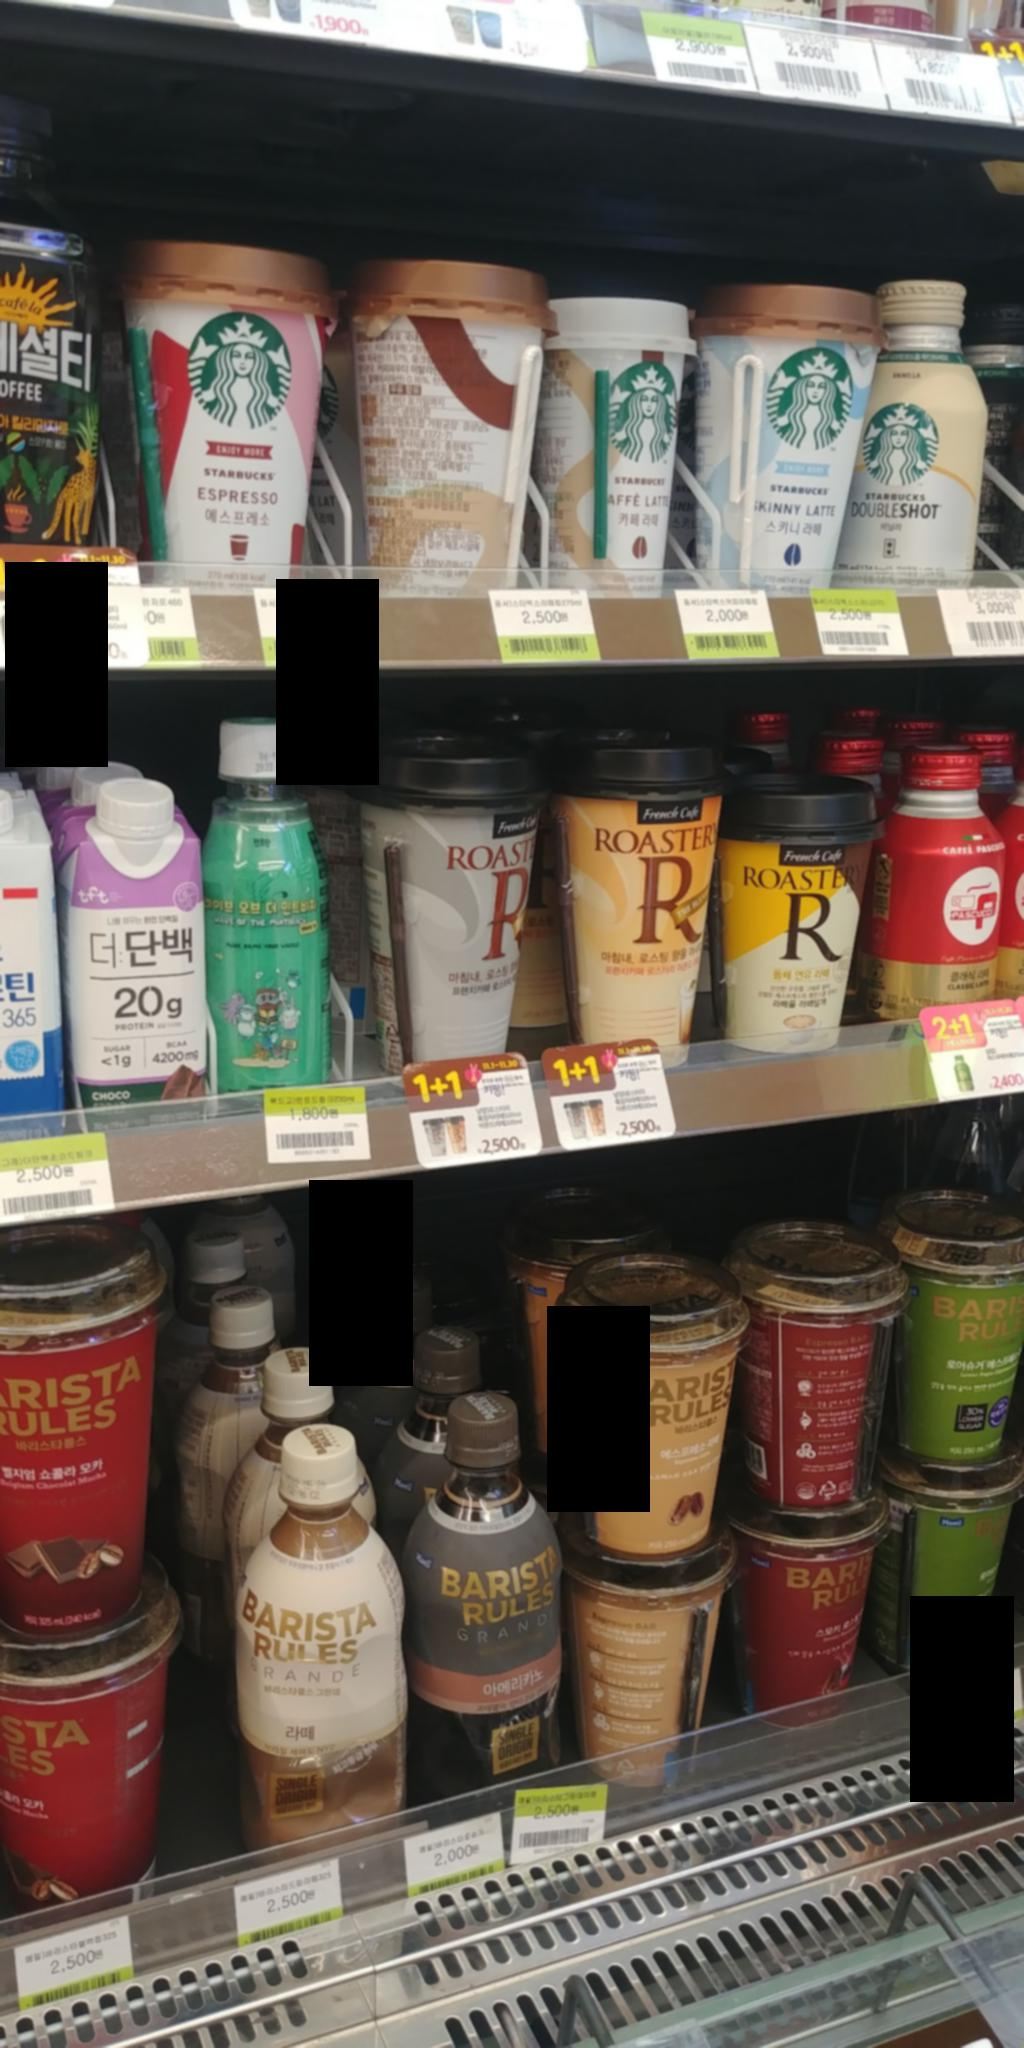baristarules_espressolatte: (552, 1260, 748, 1566)
starbucks_cafelatte: (346, 226, 529, 600)
